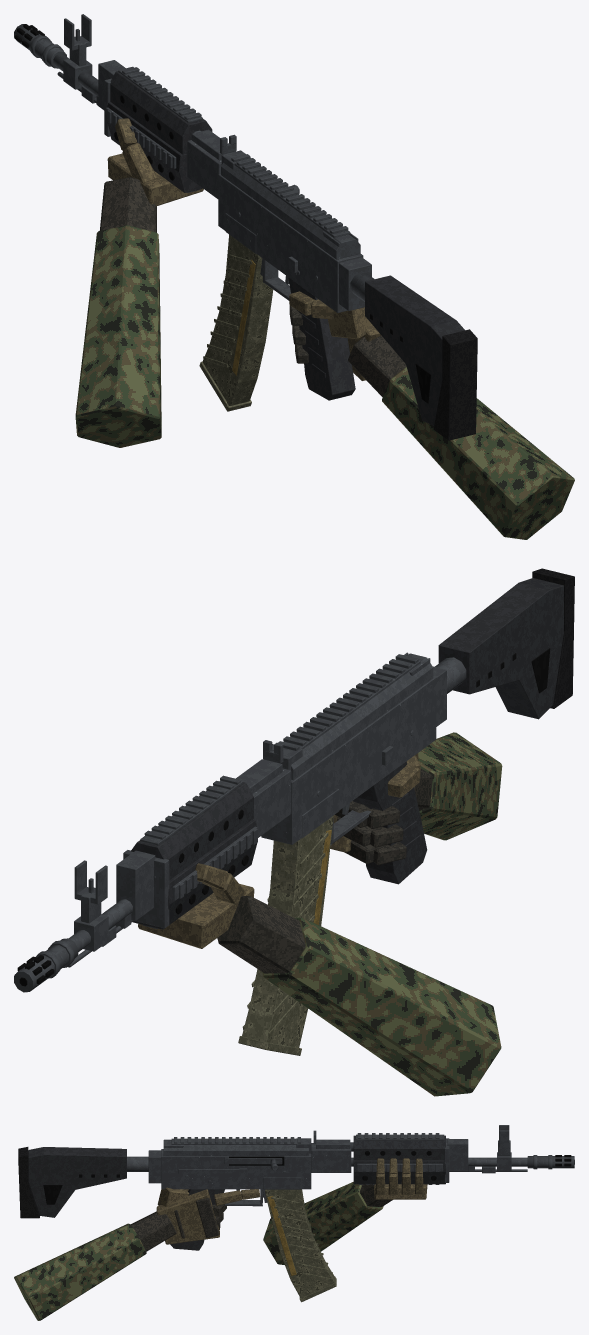
File: kwarc.glb
3 renders of one model, top to bottom at view 1: azimuth 30°, elevation 25°; view 2: azimuth 150°, elevation 25°; view 3: azimuth 270°, elevation 25°, orthographic. The views are drawn at different scales.
Visible parts, largest first — view 1: korpus, reka_l, reka_p, magazynek; view 2: korpus, reka_l, reka_p, magazynek; view 3: korpus, reka_p, reka_l, magazynek, zamek.
Boxes of the visible parts, x1,y1,x2,y2 form: korpus: (14,14,477,440); reka_l: (75,118,203,447); reka_p: (289,291,574,539); magazynek: (199,234,273,411); korpus: (14,568,574,992); reka_l: (138,863,501,1096); reka_p: (330,732,502,865); magazynek: (238,816,333,1055); korpus: (18,1125,574,1250); reka_p: (14,1187,259,1320); reka_l: (263,1158,427,1264); magazynek: (265,1189,336,1302); zamek: (224,1157,282,1170).
Bounding box in the file's own units: 0.3681 × 0.3389 × 0.9798.
9 materials, 9 textured.
